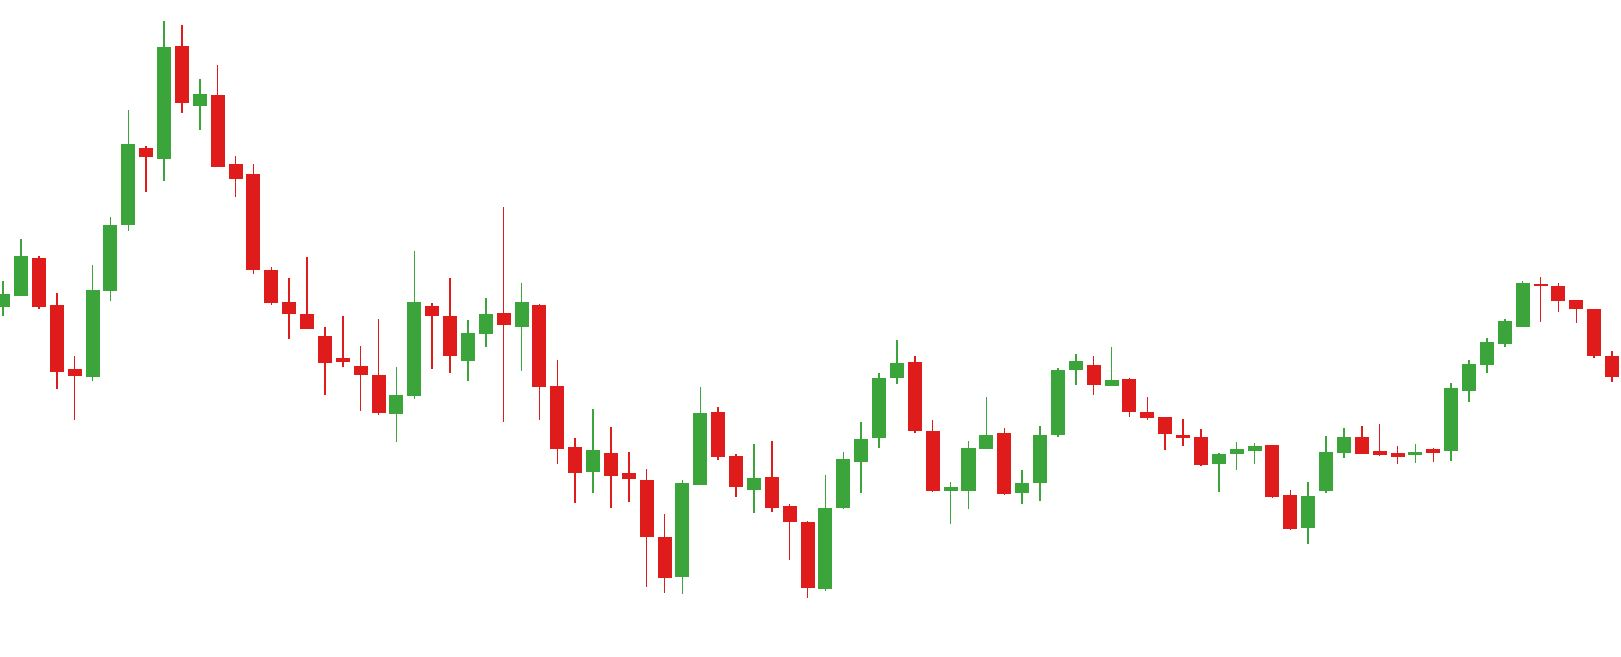buy: (656, 467, 836, 602)
